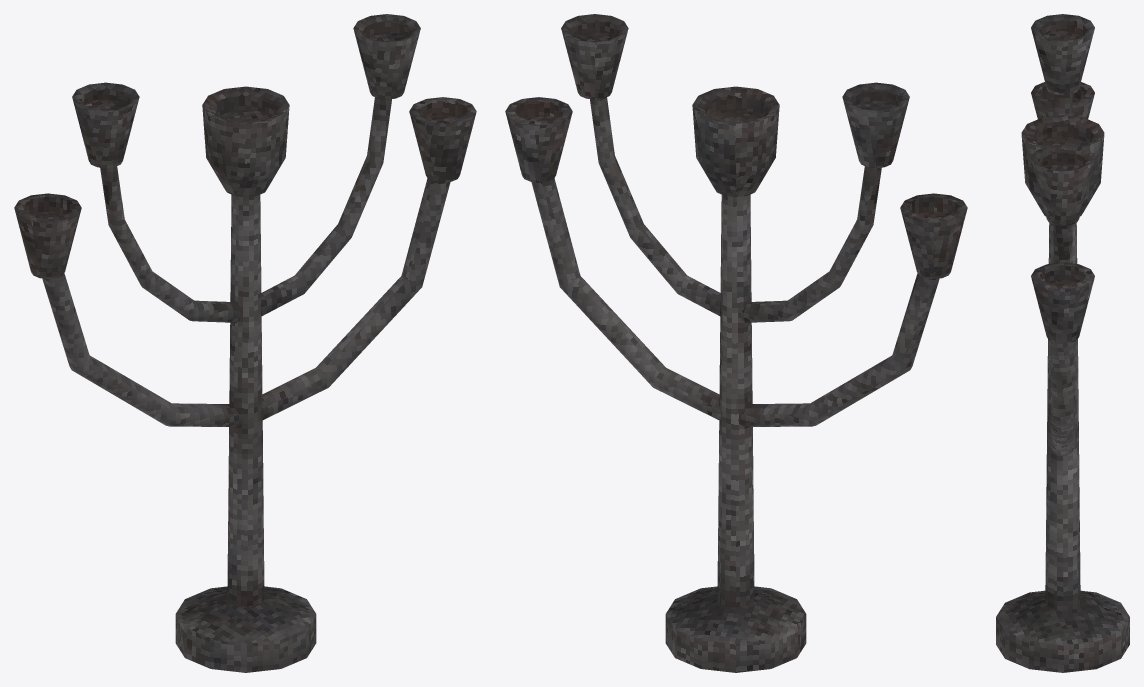
Rendered from Candelabra_1.gltf.
The picture shows the model from 3 angles, left to right: view 1: azimuth 30°, elevation 25°; view 2: azimuth 150°, elevation 25°; view 3: azimuth 270°, elevation 25°; orthographic projection. The views are drawn at different scales.
Visible parts, largest first — view 1: Candelabra_1; view 2: Candelabra_1; view 3: Candelabra_1.
Part boxes in pixels (x1,y1,x2,y2): Candelabra_1: (14,14,476,672); Candelabra_1: (505,14,967,672); Candelabra_1: (996,14,1129,672).
Bounding box in the file's own units: 2.79 × 3.41 × 0.7506.
Materials: 1 (1 with a texture image).
